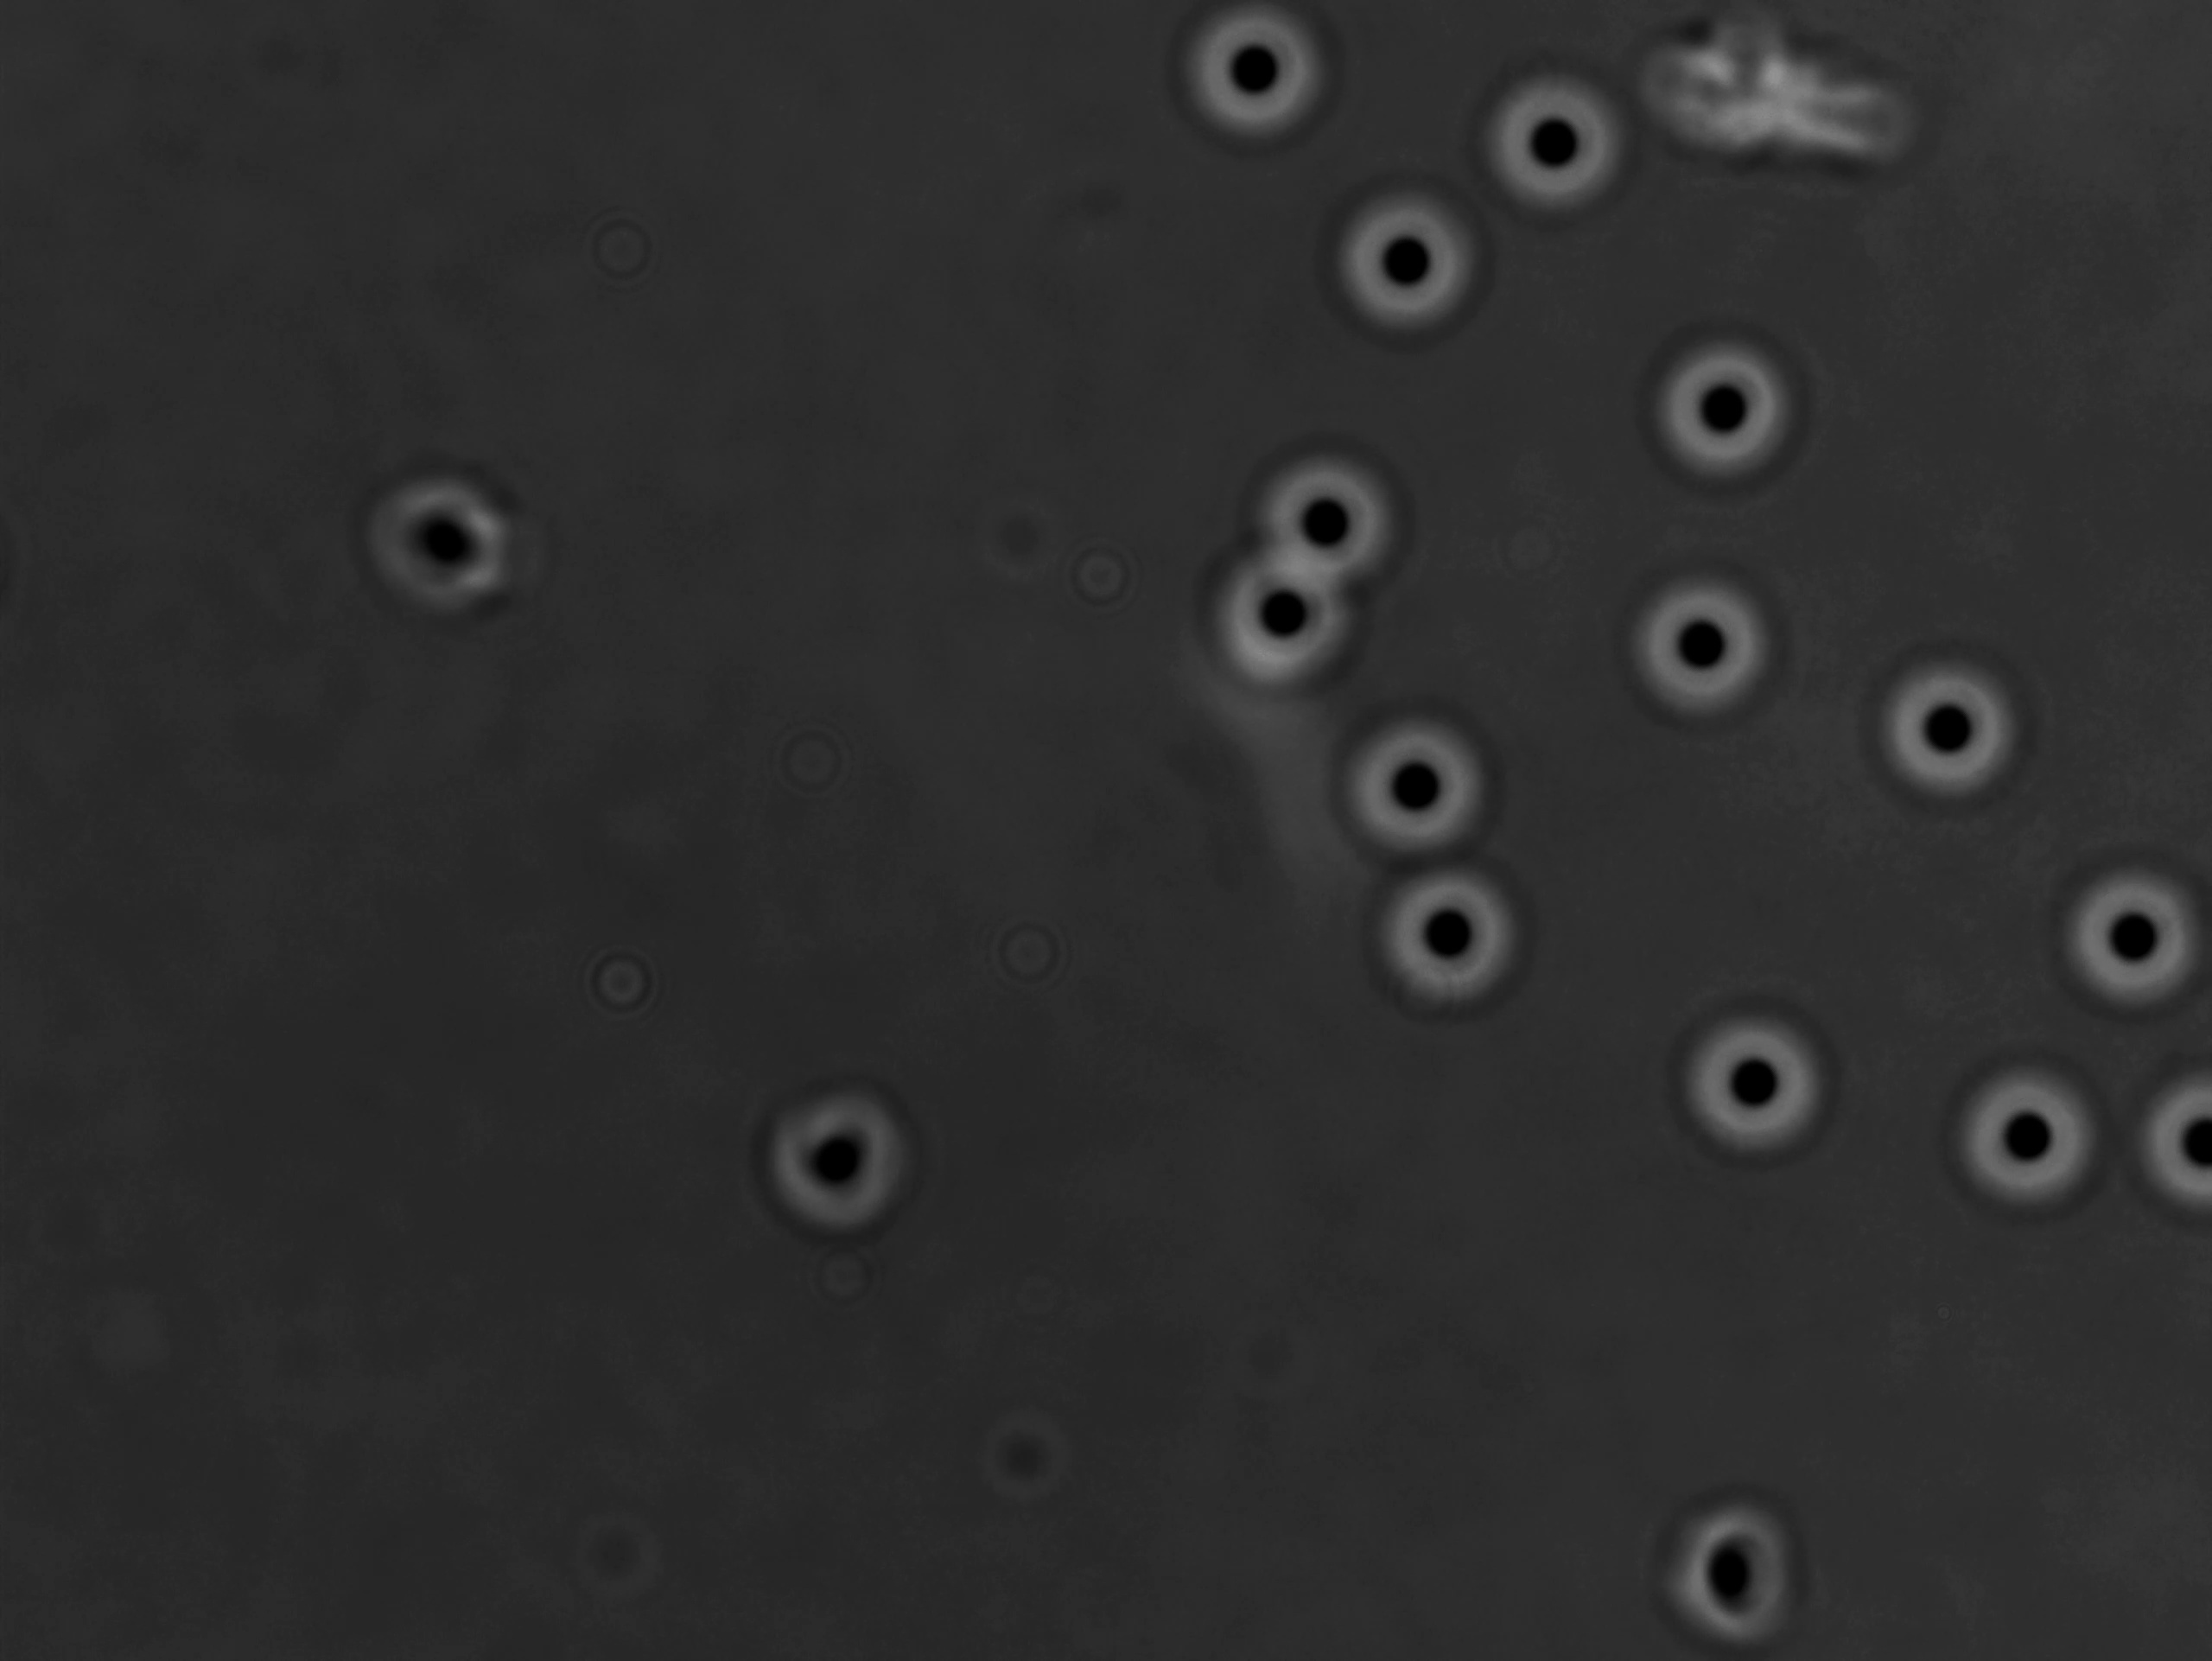depth:-40: (1942, 1047, 2116, 1228), (1858, 647, 2038, 813), (1354, 860, 1530, 1022), (2053, 846, 2212, 1026), (1256, 438, 1420, 611), (1671, 995, 1840, 1159), (1478, 61, 1647, 222), (1164, 3, 1343, 154), (1333, 710, 1502, 865), (1647, 330, 1809, 487), (1621, 567, 1786, 721), (1328, 183, 1490, 335), (1218, 557, 1366, 696)
